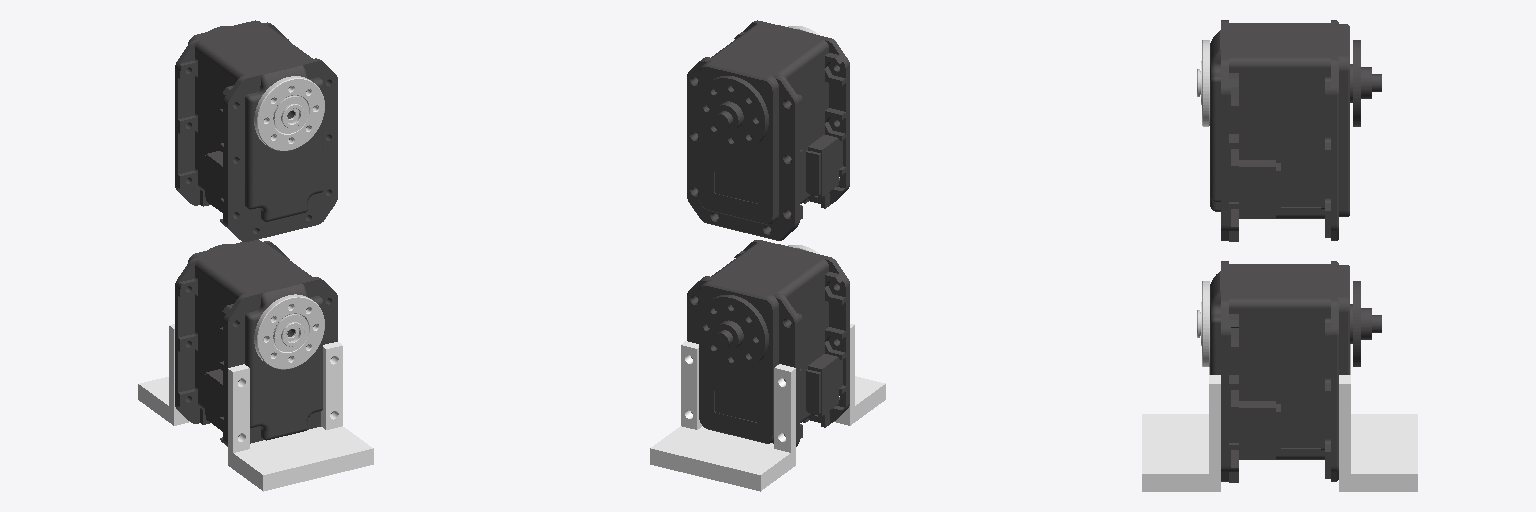
robot.urdf — urdf:
<?xml version="1.0" ?>
<!-- Generated using onshape-to-robot -->
<!-- Onshape https://cad.onshape.com/documents/30e9438e4d9bde88cc7db519/w/02fc28a9e1a4d34f79fd065c/e/bf009557b2d0a18e74e247f8 -->
<robot name="urdf">
  <!-- Link link0 -->
  <link name="link0">
    <inertial>
      <origin xyz="-2.15191e-05 -0.000436871 0.0262207" rpy="0 0 0"/>
      <mass value="0.193537"/>
      <inertia ixx="6.247e-05" ixy="2.16256e-08" ixz="-4.42063e-08" iyy="4.95578e-05" iyz="-8.1425e-07" izz="3.89204e-05"/>
    </inertial>
    <!-- Part mounting_bracket -->
    <visual>
      <origin xyz="8.05603e-18 -0.0153293 -0.01" rpy="-1.5708 -1.49144e-30 -3.14159"/>
      <geometry>
        <mesh filename="./assets/mounting_bracket.obj"/>
      </geometry>
      <material name="mounting_bracket_material">
        <color rgba="1 1 1 1.0"/>
      </material>
    </visual>
    <collision>
      <origin xyz="8.05603e-18 -0.0153293 -0.01" rpy="-1.5708 -1.49144e-30 -3.14159"/>
      <geometry>
        <mesh filename="./assets/mounting_bracket.obj"/>
      </geometry>
    </collision>
    <!-- Part mounting_bracket_2 -->
    <visual>
      <origin xyz="-1.92675e-17 0.0146707 -0.01" rpy="-1.5708 5.55112e-17 -7.08735e-16"/>
      <geometry>
        <mesh filename="./assets/mounting_bracket.obj"/>
      </geometry>
      <material name="mounting_bracket_2_material">
        <color rgba="1 1 1 1.0"/>
      </material>
    </visual>
    <collision>
      <origin xyz="-1.92675e-17 0.0146707 -0.01" rpy="-1.5708 5.55112e-17 -7.08735e-16"/>
      <geometry>
        <mesh filename="./assets/mounting_bracket.obj"/>
      </geometry>
    </collision>
    <!-- Part dc07_a_dummy_al -->
    <visual>
      <origin xyz="4.03295e-20 -0.000329315 0.0386" rpy="2.66454e-15 -7.09975e-30 -3.14159"/>
      <geometry>
        <mesh filename="./assets/dc07_a_dummy_al.obj"/>
      </geometry>
      <material name="dc07_a_dummy_al_material">
        <color rgba="0.360784 0.352941 0.352941 1.0"/>
      </material>
    </visual>
    <collision>
      <origin xyz="4.03295e-20 -0.000329315 0.0386" rpy="2.66454e-15 -7.09975e-30 -3.14159"/>
      <geometry>
        <mesh filename="./assets/dc07_a_dummy_al.obj"/>
      </geometry>
    </collision>
    <!-- Part dc07_a_cap_bearing_42 -->
    <visual>
      <origin xyz="2.46599e-18 -0.0205793 0.0386" rpy="-3.14159 -7.09975e-30 -3.14159"/>
      <geometry>
        <mesh filename="./assets/dc07_a_cap_bearing_42.obj"/>
      </geometry>
      <material name="dc07_a_cap_bearing_42_material">
        <color rgba="0.901961 0.901961 0.901961 1.0"/>
      </material>
    </visual>
    <collision>
      <origin xyz="2.46599e-18 -0.0205793 0.0386" rpy="-3.14159 -7.09975e-30 -3.14159"/>
      <geometry>
        <mesh filename="./assets/dc07_a_cap_bearing_42.obj"/>
      </geometry>
    </collision>
    <!-- Part bearing_mf106 -->
    <visual>
      <origin xyz="2.4415e-18 -0.0203793 0.0386" rpy="1.5708 -7.09975e-30 -3.14159"/>
      <geometry>
        <mesh filename="./assets/bearing_mf106.obj"/>
      </geometry>
      <material name="bearing_mf106_material">
        <color rgba="0.901961 0.901961 0.901961 1.0"/>
      </material>
    </visual>
    <collision>
      <origin xyz="2.4415e-18 -0.0203793 0.0386" rpy="1.5708 -7.09975e-30 -3.14159"/>
      <geometry>
        <mesh filename="./assets/bearing_mf106.obj"/>
      </geometry>
    </collision>
    <!-- Part hn07_i_02 -->
    <visual>
      <origin xyz="2.46513e-18 -0.0201293 0.0386" rpy="-1.5708 -7.09975e-30 -3.14159"/>
      <geometry>
        <mesh filename="./assets/hn07_i_02.obj"/>
      </geometry>
      <material name="hn07_i_02_material">
        <color rgba="0.901961 0.901961 0.901961 1.0"/>
      </material>
    </visual>
    <collision>
      <origin xyz="2.46513e-18 -0.0201293 0.0386" rpy="-1.5708 -7.09975e-30 -3.14159"/>
      <geometry>
        <mesh filename="./assets/hn07_i_02.obj"/>
      </geometry>
    </collision>
    <!-- Part dc07_a_dummy_al_2 -->
    <visual>
      <origin xyz="-1.39202e-20 -0.000329315 0.0386" rpy="2.66454e-15 -7.09975e-30 -3.14159"/>
      <geometry>
        <mesh filename="./assets/dc07_a_dummy_al__2.obj"/>
      </geometry>
      <material name="dc07_a_dummy_al_2_material">
        <color rgba="0.360784 0.352941 0.352941 1.0"/>
      </material>
    </visual>
    <collision>
      <origin xyz="-1.39202e-20 -0.000329315 0.0386" rpy="2.66454e-15 -7.09975e-30 -3.14159"/>
      <geometry>
        <mesh filename="./assets/dc07_a_dummy_al__2.obj"/>
      </geometry>
    </collision>
  </link>
  <!-- Link link1 -->
  <link name="link1">
    <inertial>
      <origin xyz="0.0533903 -2.09904e-05 -0.0205766" rpy="0 0 0"/>
      <mass value="0.200624"/>
      <inertia ixx="3.98986e-05" ixy="-3.89409e-08" ixz="-6.41053e-07" iyy="7.81564e-05" iyz="2.15177e-08" izz="6.56248e-05"/>
    </inertial>
    <!-- Part proximal_link -->
    <visual>
      <origin xyz="0.0175 -2.60209e-18 -0.02035" rpy="-1.5708 -0 -1.5708"/>
      <geometry>
        <mesh filename="./assets/proximal_link.obj"/>
      </geometry>
      <material name="proximal_link_material">
        <color rgba="1 1 1 1.0"/>
      </material>
    </visual>
    <collision>
      <origin xyz="0.0175 -2.60209e-18 -0.02035" rpy="-1.5708 -0 -1.5708"/>
      <geometry>
        <mesh filename="./assets/proximal_link.obj"/>
      </geometry>
    </collision>
    <!-- Part dc07_a_dummy_al_3 -->
    <visual>
      <origin xyz="0.0675 6.76524e-16 -0.0205" rpy="-1.5708 9.42146e-23 -1.5708"/>
      <geometry>
        <mesh filename="./assets/dc07_a_dummy_al.obj"/>
      </geometry>
      <material name="dc07_a_dummy_al_3_material">
        <color rgba="0.360784 0.352941 0.352941 1.0"/>
      </material>
    </visual>
    <collision>
      <origin xyz="0.0675 6.76524e-16 -0.0205" rpy="-1.5708 9.42146e-23 -1.5708"/>
      <geometry>
        <mesh filename="./assets/dc07_a_dummy_al.obj"/>
      </geometry>
    </collision>
    <!-- Part dc07_a_cap_bearing_42_2 -->
    <visual>
      <origin xyz="0.0675 5.49144e-16 -0.04075" rpy="1.5708 1.91876e-22 -1.5708"/>
      <geometry>
        <mesh filename="./assets/dc07_a_cap_bearing_42.obj"/>
      </geometry>
      <material name="dc07_a_cap_bearing_42_2_material">
        <color rgba="0.901961 0.901961 0.901961 1.0"/>
      </material>
    </visual>
    <collision>
      <origin xyz="0.0675 5.49144e-16 -0.04075" rpy="1.5708 1.91876e-22 -1.5708"/>
      <geometry>
        <mesh filename="./assets/dc07_a_cap_bearing_42.obj"/>
      </geometry>
    </collision>
    <!-- Part bearing_mf106_2 -->
    <visual>
      <origin xyz="0.0675 5.14474e-16 -0.04055" rpy="-6.26166e-14 1.34803e-15 -1.5708"/>
      <geometry>
        <mesh filename="./assets/bearing_mf106.obj"/>
      </geometry>
      <material name="bearing_mf106_2_material">
        <color rgba="0.901961 0.901961 0.901961 1.0"/>
      </material>
    </visual>
    <collision>
      <origin xyz="0.0675 5.14474e-16 -0.04055" rpy="-6.26166e-14 1.34803e-15 -1.5708"/>
      <geometry>
        <mesh filename="./assets/bearing_mf106.obj"/>
      </geometry>
    </collision>
    <!-- Part hn07_i_02_2 -->
    <visual>
      <origin xyz="0.0675 5.16239e-16 -0.0403" rpy="3.14159 1.40166e-15 -1.5708"/>
      <geometry>
        <mesh filename="./assets/hn07_i_02.obj"/>
      </geometry>
      <material name="hn07_i_02_2_material">
        <color rgba="0.901961 0.901961 0.901961 1.0"/>
      </material>
    </visual>
    <collision>
      <origin xyz="0.0675 5.16239e-16 -0.0403" rpy="3.14159 1.40166e-15 -1.5708"/>
      <geometry>
        <mesh filename="./assets/hn07_i_02.obj"/>
      </geometry>
    </collision>
    <!-- Part dc07_a_dummy_al_4 -->
    <visual>
      <origin xyz="0.0675 6.76524e-16 -0.0205" rpy="-1.5708 1.78641e-22 -1.5708"/>
      <geometry>
        <mesh filename="./assets/dc07_a_dummy_al__2.obj"/>
      </geometry>
      <material name="dc07_a_dummy_al_4_material">
        <color rgba="0.360784 0.352941 0.352941 1.0"/>
      </material>
    </visual>
    <collision>
      <origin xyz="0.0675 6.76524e-16 -0.0205" rpy="-1.5708 1.78641e-22 -1.5708"/>
      <geometry>
        <mesh filename="./assets/dc07_a_dummy_al__2.obj"/>
      </geometry>
    </collision>
  </link>
  <!-- Link link2 -->
  <link name="link2">
    <inertial>
      <origin xyz="0.0281188 -1.98653e-06 -0.02035" rpy="0 0 0"/>
      <mass value="0.0156075"/>
      <inertia ixx="7.46893e-06" ixy="-8.71818e-10" ixz="5.63966e-23" iyy="1.07418e-05" iyz="-5.04121e-26" izz="6.49362e-06"/>
    </inertial>
    <!-- Part link2 -->
    <visual>
      <origin xyz="0.0175 -2.60209e-18 -0.02035" rpy="-1.5708 -9.5897e-33 -1.5708"/>
      <geometry>
        <mesh filename="./assets/link2.obj"/>
      </geometry>
      <material name="link2_material">
        <color rgba="1 1 1 1.0"/>
      </material>
    </visual>
    <collision>
      <origin xyz="0.0175 -2.60209e-18 -0.02035" rpy="-1.5708 -9.5897e-33 -1.5708"/>
      <geometry>
        <mesh filename="./assets/link2.obj"/>
      </geometry>
    </collision>
  </link>
  <!-- Joint from link1 to link2 -->
  <joint name="joint1" type="revolute">
    <origin xyz="0.0675 6.84071e-16 -3.81639e-17" rpy="9.42146e-23 -1.82603e-16 9.48881e-09"/>
    <parent link="link1"/>
    <child link="link2"/>
    <axis xyz="0 0 1"/>
    <limit effort="10" velocity="10" lower="-3.141592653589793" upper="3.141592653589793"/>
  </joint>
  <!-- Joint from link0 to link1 -->
  <joint name="joint0" type="revolute">
    <origin xyz="-7.57433e-19 0.0201707 0.0386" rpy="-1.5708 -1.5708 0"/>
    <parent link="link0"/>
    <child link="link1"/>
    <axis xyz="0 0 1"/>
    <limit effort="10" velocity="10" lower="-3.141592653589793" upper="3.141592653589793"/>
  </joint>
  <transmission name="trans0">
    <type>transmission_interface/SimpleTransmission</type>
    <joint name="joint0">
      <hardwareInterface>hardware_interface/PositionJointInterface</hardwareInterface>
    </joint>
    <actuator name="joint0_motor">
      <mechanicalReduction>1</mechanicalReduction>
    </actuator>
  </transmission>
  <transmission name="trans1">
    <type>transmission_interface/SimpleTransmission</type>
    <joint name="joint1">
      <hardwareInterface>hardware_interface/PositionJointInterface</hardwareInterface>
    </joint>
    <actuator name="joint1_motor">
      <mechanicalReduction>1</mechanicalReduction>
    </actuator>
  </transmission>
</robot>

--- What the picture shows (computed from the rendered views, not written in the file) ---
The picture shows the robot from 3 angles, left to right: view 1: azimuth 30°, elevation 25°; view 2: azimuth 150°, elevation 25°; view 3: azimuth 270°, elevation 25°; orthographic projection.
Robot: urdf — 3 links, 2 joints (2 revolute); root link link0; default pose: all joints at 0.
Visible links, largest first — view 1: link0, link1; view 2: link0, link1; view 3: link0, link1.
Link boxes in pixels (x1=…): link0: x1=138, y1=239, x2=373, y2=491; link1: x1=175, y1=20, x2=337, y2=241; link0: x1=650, y1=240, x2=885, y2=491; link1: x1=687, y1=20, x2=849, y2=240; link0: x1=1142, y1=261, x2=1417, y2=491; link1: x1=1197, y1=20, x2=1381, y2=241.
Bounding box of the posed robot: 0.0356 × 0.07 × 0.1181 m (x, y, z).
12 mesh visuals loaded from 8 distinct referenced files (6 OBJ); not drawn: 2 (reference not matched to a file when rendering).
